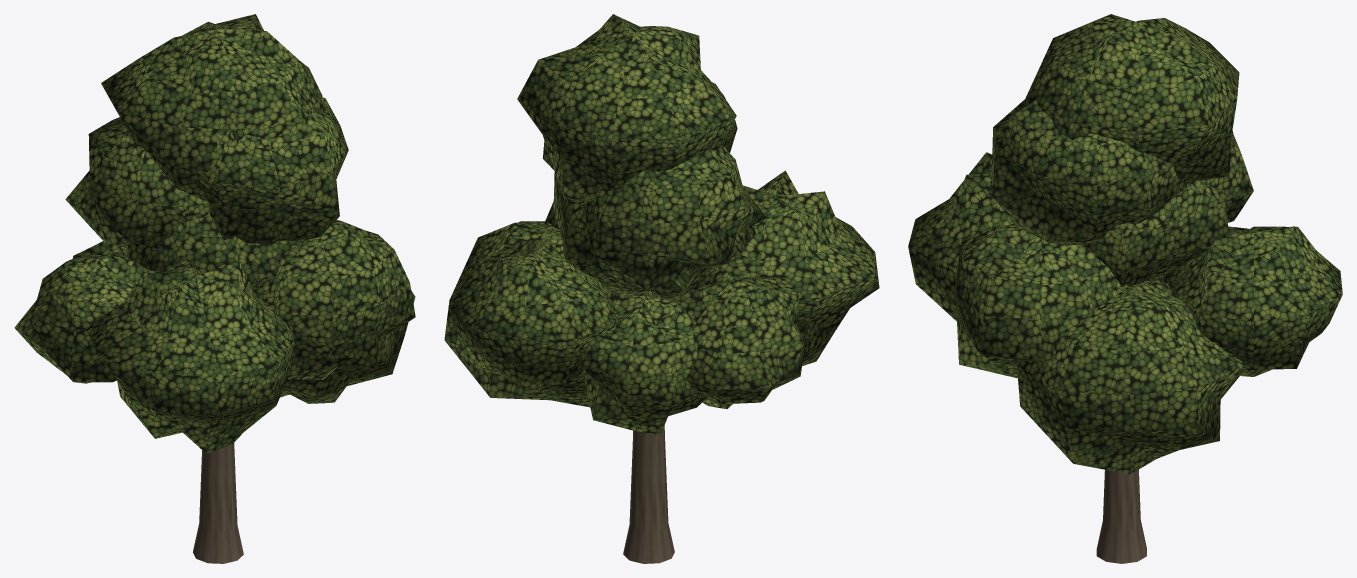
The model's file is tree.gltf.
3 views of the same model, side by side, from view 1: azimuth 30°, elevation 25°; view 2: azimuth 150°, elevation 25°; view 3: azimuth 270°, elevation 25° (orthographic). The views are drawn at different scales.
Visible parts, largest first — view 1: tree_mesh; view 2: tree_mesh; view 3: tree_mesh.
Boxes of the visible parts, x1,y1,x2,y2 form: tree_mesh: (14,14,415,563); tree_mesh: (444,14,879,563); tree_mesh: (908,14,1342,563).
Size of what is drawn, in the model's own units: 4.91 by 7.1 by 5.24.
Materials: 2 (2 with a texture image).
